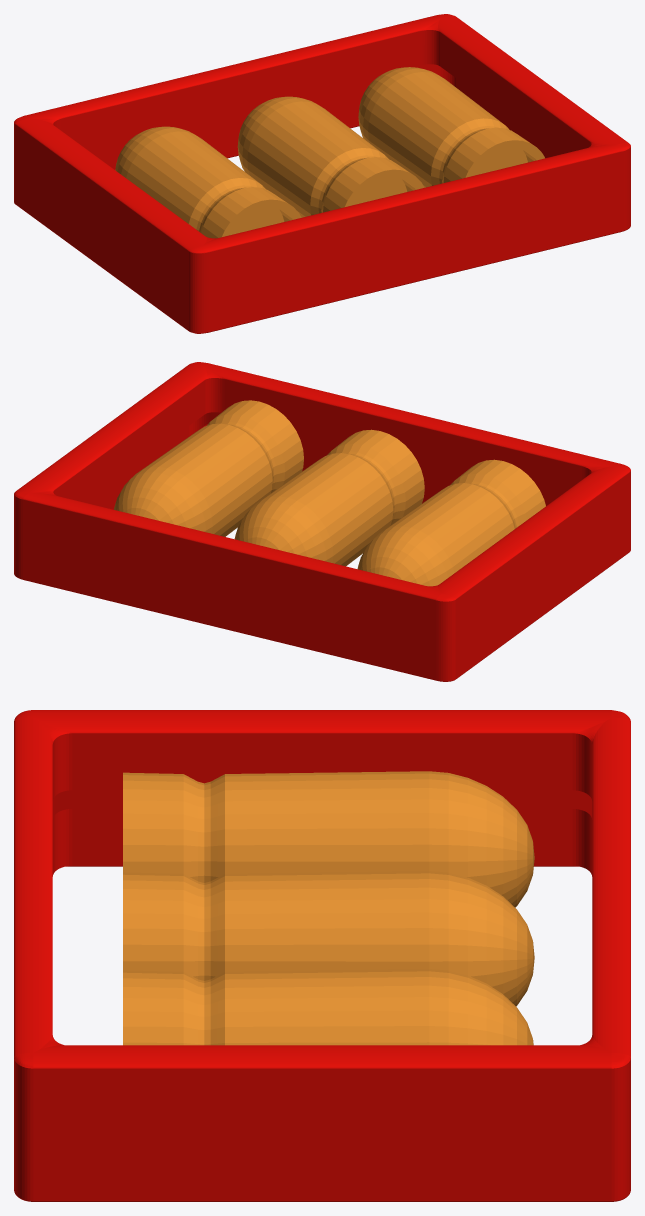
Rendered from TripleShotPowerUp.fbx.
The picture shows the model from 3 angles, top to bottom: view 1: azimuth 30°, elevation 25°; view 2: azimuth 150°, elevation 25°; view 3: azimuth 270°, elevation 25°; orthographic projection. The views are drawn at different scales.
Visible parts, largest first — view 1: Cube, Sphere.001, Sphere.002, Sphere; view 2: Cube, Sphere.001, Sphere.002, Sphere; view 3: Cube, Sphere, Sphere.001, Sphere.002.
Boxes of the visible parts, <box> form: Cube: <box>14,14,630,333</box>; Sphere.001: <box>237,96,424,217</box>; Sphere.002: <box>358,67,544,187</box>; Sphere: <box>115,126,301,238</box>; Cube: <box>14,362,630,681</box>; Sphere.001: <box>234,429,424,566</box>; Sphere.002: <box>114,400,303,536</box>; Sphere: <box>357,459,545,586</box>; Cube: <box>14,710,630,1201</box>; Sphere: <box>123,771,534,907</box>; Sphere.001: <box>123,871,534,1006</box>; Sphere.002: <box>123,969,533,1045</box>.
Bounding box in the file's own units: 161 × 32.98 × 117.
